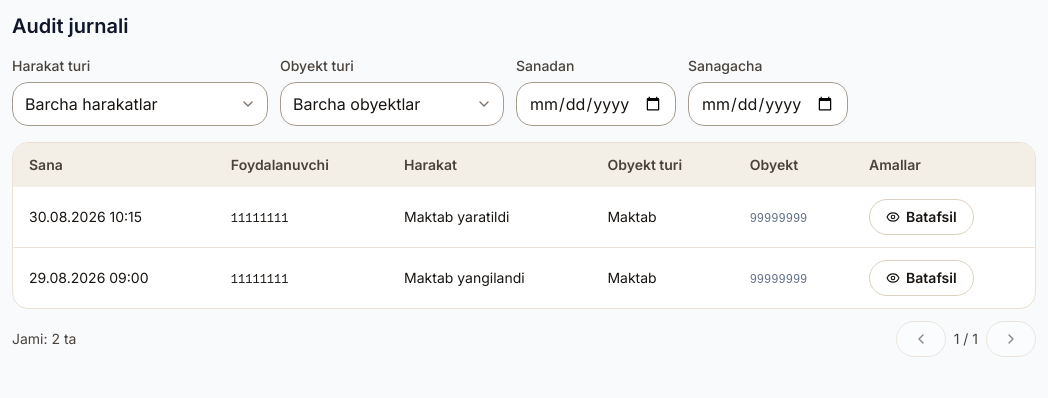
Scenario: AuditLogPage › harakat turi filtri URL query'ga yoziladi va deep-link'dan to'g'ri o'qiladi
Select "Maktab yaratildi" in the dropdown labelled "Harakat turi": (140, 104) [12,82,268,126]
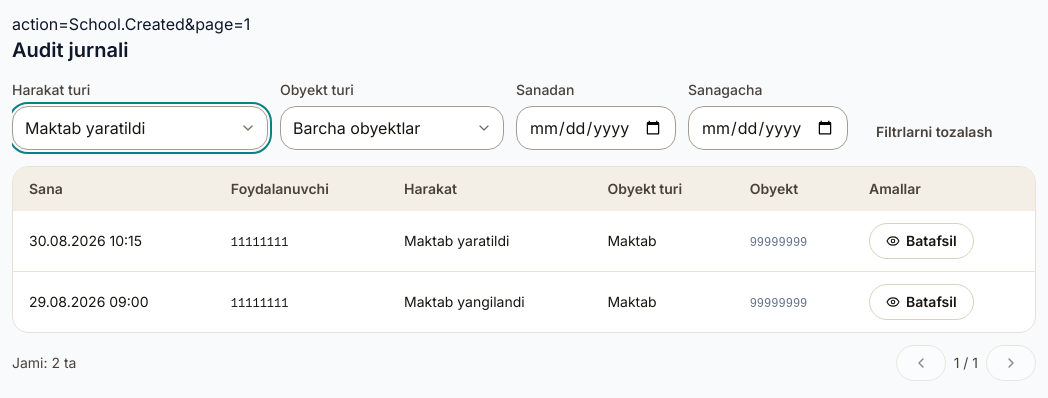
Expected: the text with test id "url-probe" shows "action=School.Created", [12,14,250,34]
